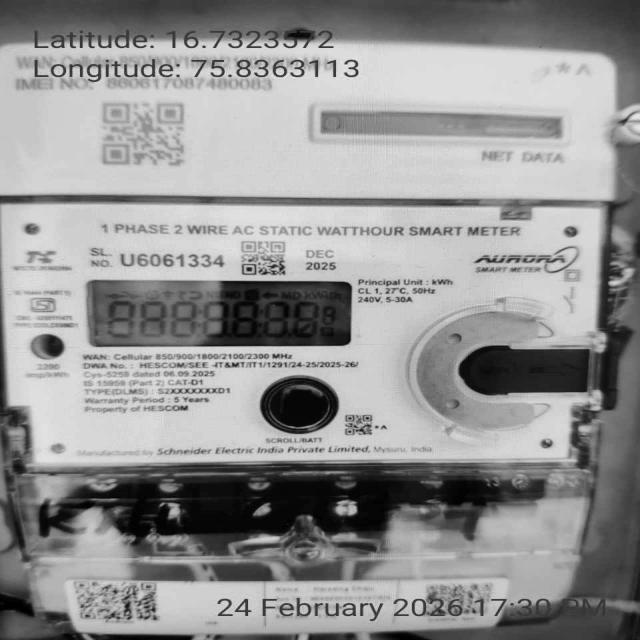meter: (0, 40, 616, 467)
